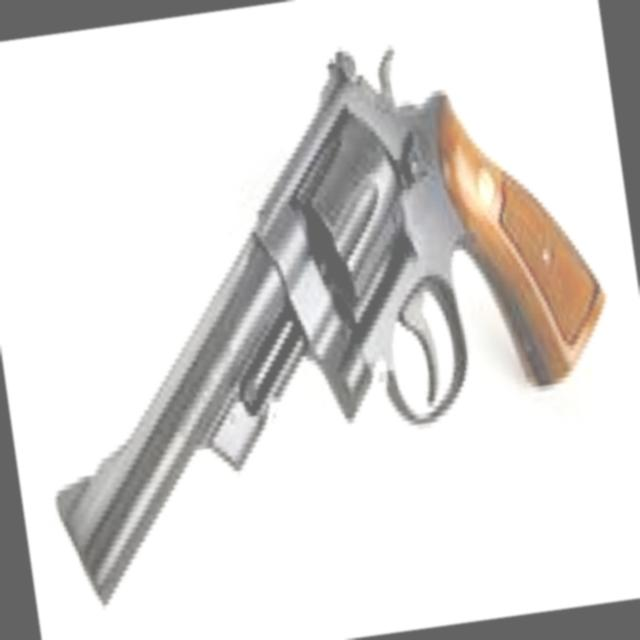revolver: (0, 0, 640, 627), (60, 50, 607, 602)
